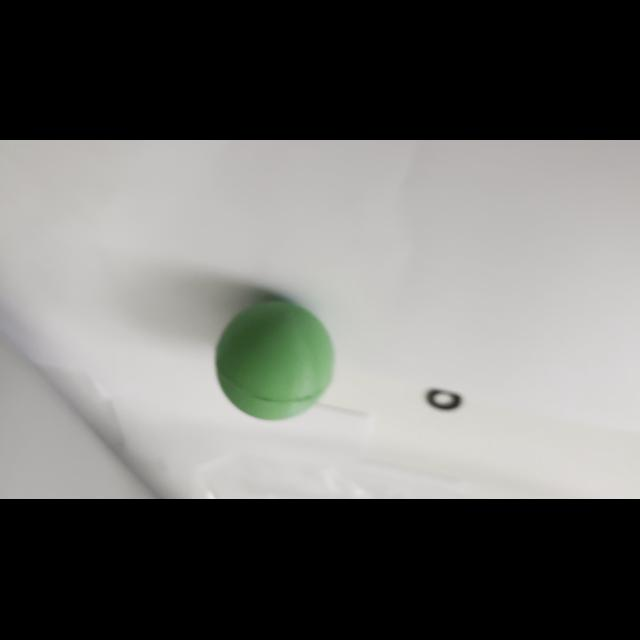objects: (209, 294, 339, 424)
